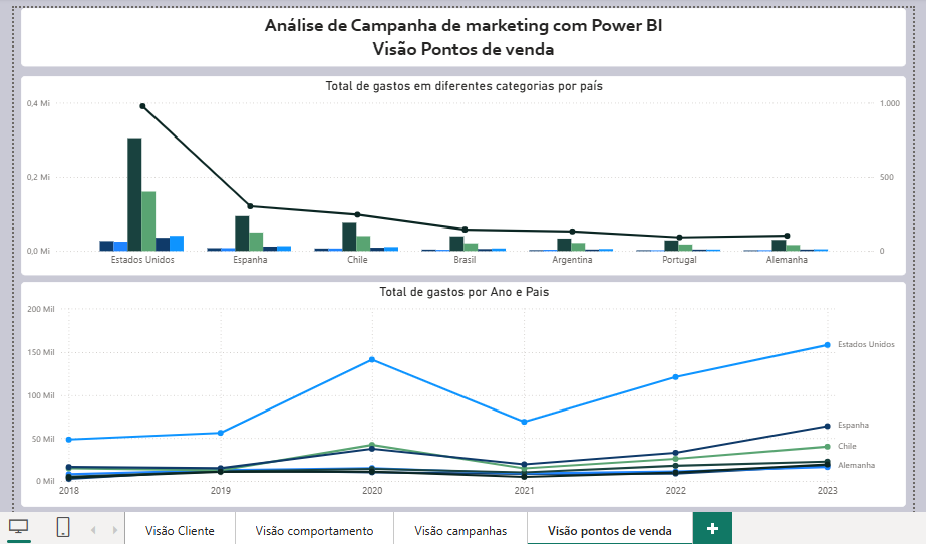

The page's visual inventory and layout, read from the dashboard file:
{"tool":"powerbi","page":{"name":"Visão pontos de venda","canvas":[1280,720],"ordinal":3},"visuals":[{"type":"textbox","box":[10,0,1260,81.7],"z":0},{"type":"lineClusteredColumnComboChart","title":"Total de gastos em diferentes categorias por país","fields":{"Category":["Dados marketing.Pais"],"Y":["Sum(Dados marketing.Gasto com Alimentos)","Sum(Dados marketing.Gasto com Brinquedos)","Sum(Dados marketing.Gasto com Eletronicos)","Sum(Dados marketing.Gasto com Moveis)","Sum(Dados marketing.Gasto com Utilidades)","Sum(Dados marketing.Gasto com Vestuario)"],"Y2":["CountNonNull(Dados marketing.ID)"]},"box":[10,95,1260,281.7],"z":1000},{"type":"lineChart","title":"Total de gastos por Ano e Pais","fields":{"Category":["Dados marketing.Data Cadastro.Variation.Hierarquia de datas.Ano"],"Y":["Dados marketing.TotalGasto"],"Series":["Dados marketing.Pais"]},"box":[10,386.7,1260,316.7],"z":2000}]}

Visuals, with their boxes on the page's 1280x720 design canvas (x1, y1, x2, y2). These are canvas units, not pixel positions in the 926x544 screenshot, which may show the page scaled, cropped or inside an application window:
textbox: 10:0:1270:82
"Total de gastos em diferentes categorias por país" lineClusteredColumnComboChart: 10:95:1270:377
"Total de gastos por Ano e Pais" lineChart: 10:387:1270:703
